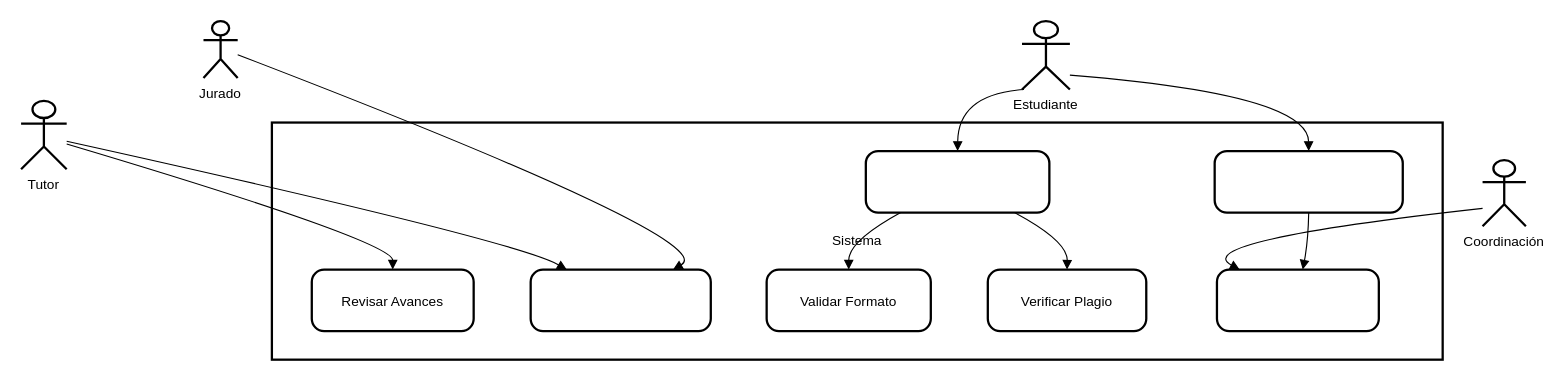
Some shapes in this 1564 by 380 pixel diagram are drawn without their labels. The shapes that lost their labels are listed below. From the top down, each one's box as (x1, y1, x2, y2) in pixels, then its label:
(864, 149, 1050, 213): Proponer Proyecto
(1213, 149, 1403, 213): Sustentar Proyecto
(529, 268, 711, 332): Calificar Proyecto
(1215, 268, 1379, 332): Asignar Jurados
